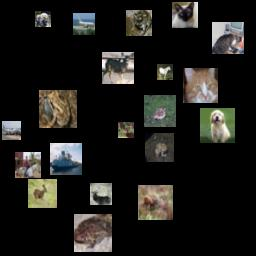airplane: (73, 13, 95, 35), (2, 121, 21, 140)
bird: (144, 95, 176, 127)
cat: (183, 68, 218, 103), (212, 22, 244, 54), (172, 2, 198, 28)
deer: (138, 185, 173, 220), (102, 52, 134, 84), (28, 179, 57, 208), (90, 183, 112, 205), (118, 122, 134, 138)
dog: (200, 108, 235, 143), (35, 11, 51, 27)
frog: (39, 90, 77, 128), (74, 214, 112, 252), (145, 133, 174, 162), (126, 10, 152, 36)
ship: (50, 143, 82, 175)
